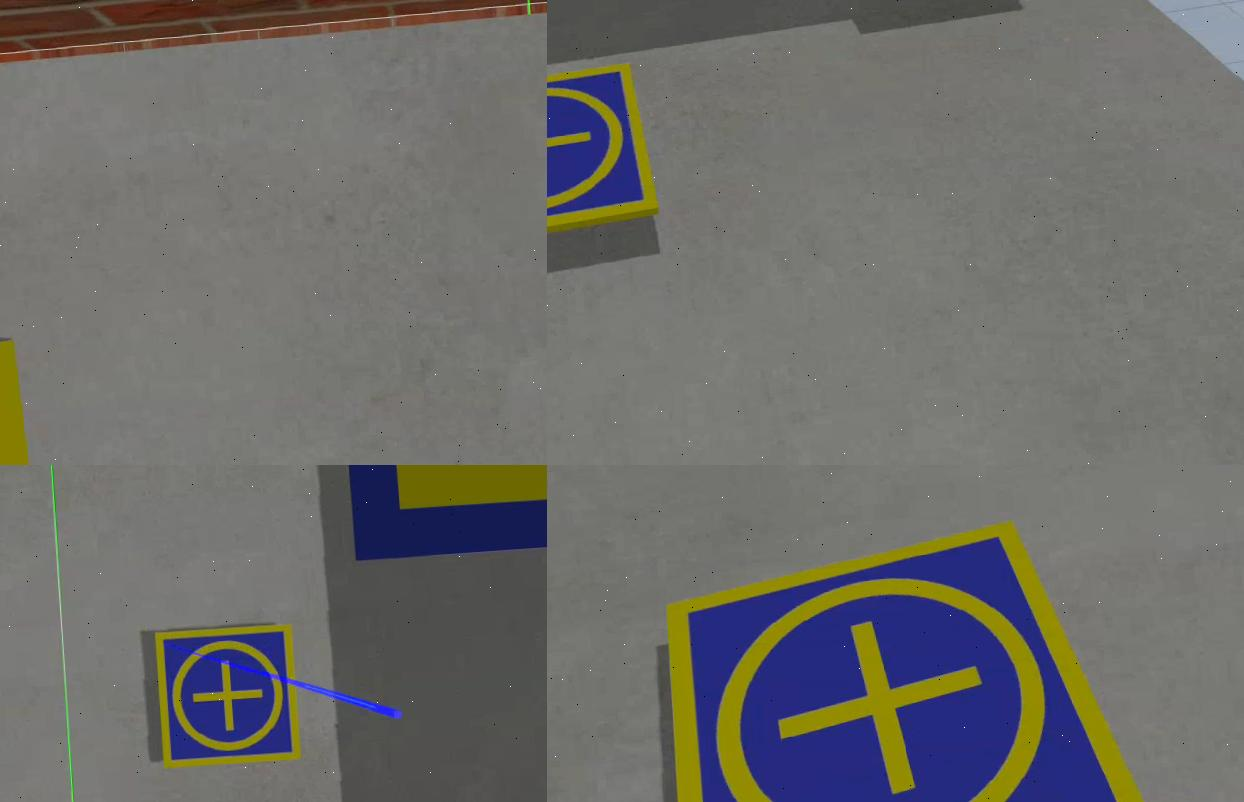large_base: (332, 466, 548, 567)
small_base: (658, 509, 1170, 802), (153, 624, 300, 772), (548, 62, 661, 252)
